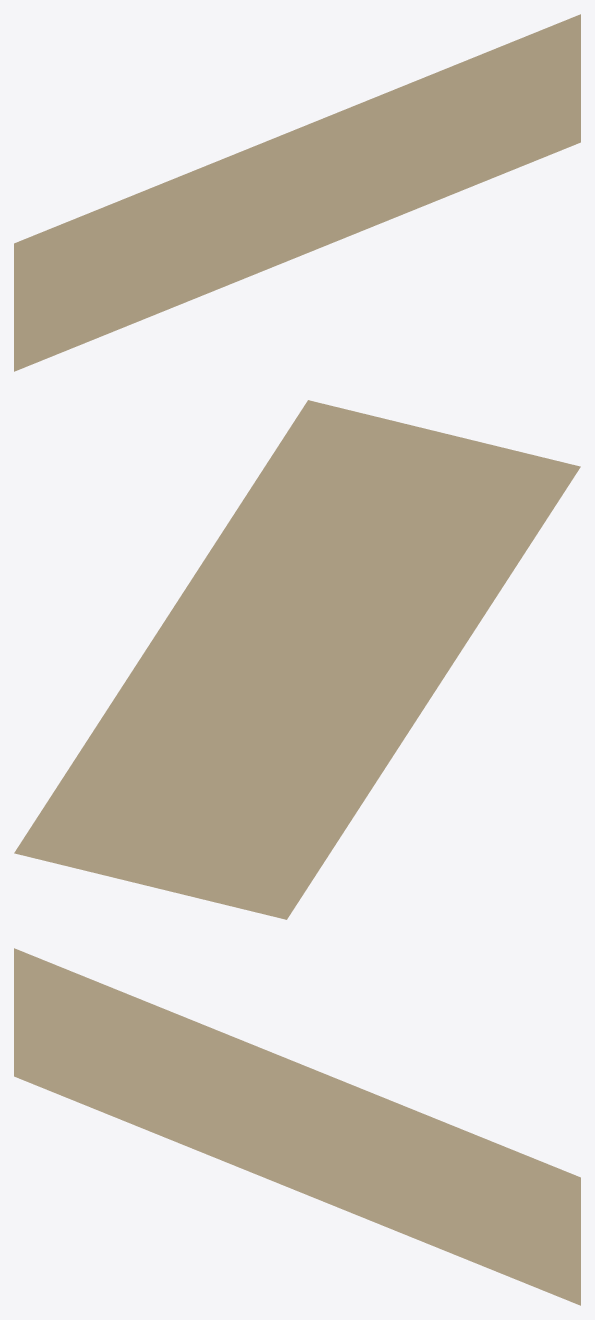
The model's file is water_fixture.gltf.
3 renders of one model, top to bottom at view 1: azimuth 90°, elevation 25°; view 2: azimuth 150°, elevation 25°; view 3: azimuth 270°, elevation 25°, orthographic. The views are drawn at different scales.
Visible parts, largest first — view 1: water_ramp; view 2: water_ramp; view 3: water_ramp.
Part boxes in pixels (x1,y1,x2,y2): water_ramp: (14, 14, 580, 371); water_ramp: (14, 400, 580, 919); water_ramp: (14, 948, 580, 1305).
Size of what is drawn, in the model's own units: 3 by 2.5 by 5.6.
